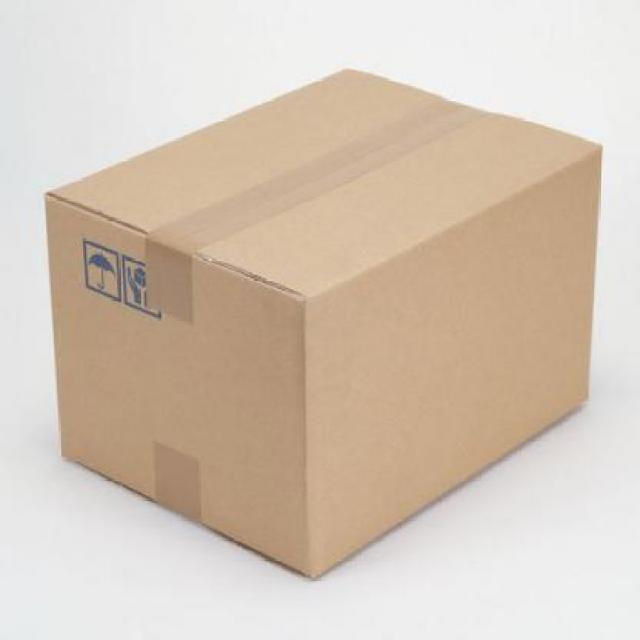box: (48, 67, 613, 584)
